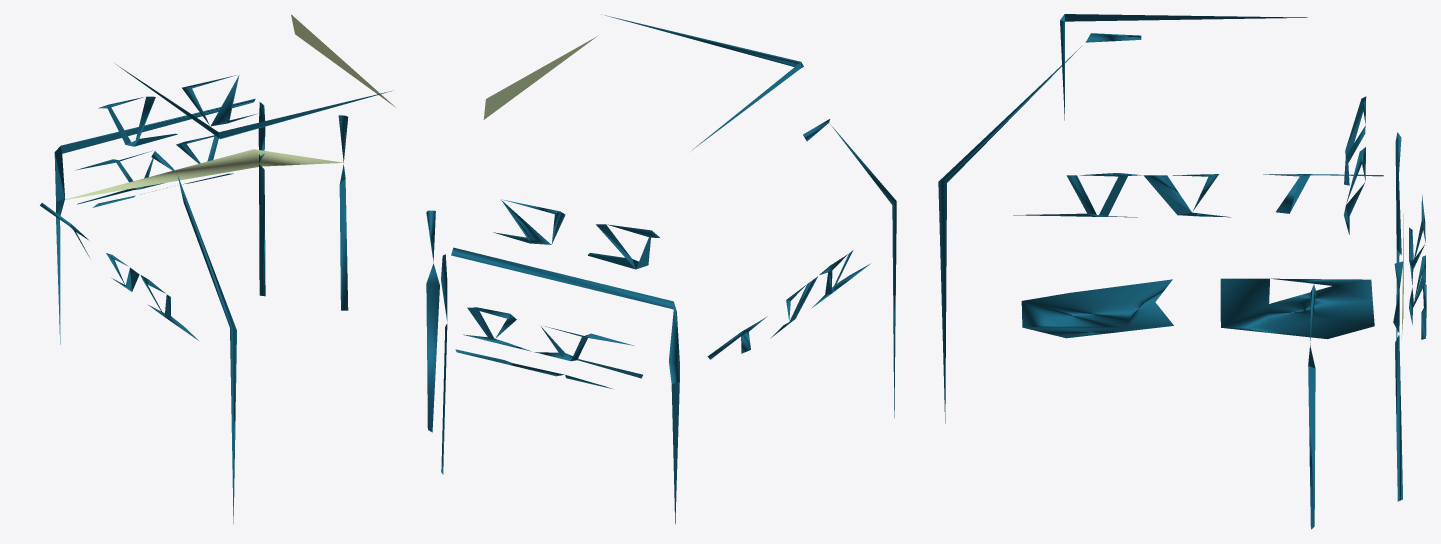
Rendered from backdrop_top_d_lod3.glb.
3 renders of one model, left to right at view 1: azimuth 30°, elevation 25°; view 2: azimuth 150°, elevation 25°; view 3: azimuth 270°, elevation 25°, orthographic. The views are drawn at different scales.
Size of the model in its own units: 51.35 by 56.29 by 57.22.
